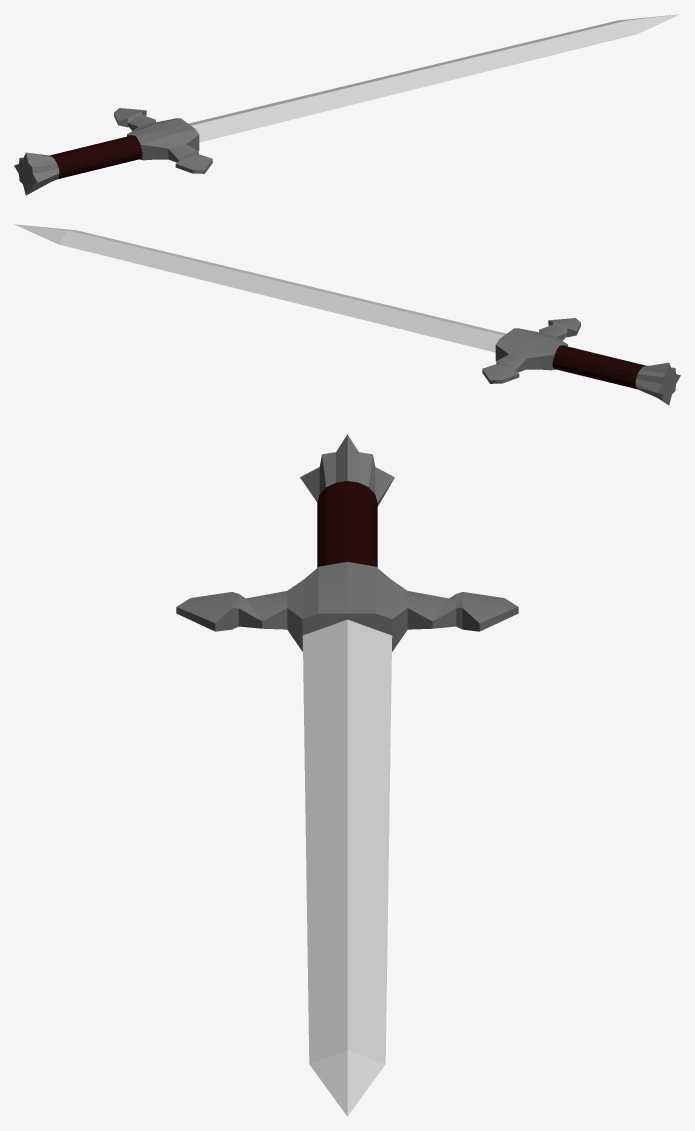
File: SM_Longsword.fbx
3 renders of one model, top to bottom at view 1: azimuth 30°, elevation 25°; view 2: azimuth 150°, elevation 25°; view 3: azimuth 270°, elevation 25°, orthographic. The views are drawn at different scales.
Parts seen in each view (by area): view 1: Sword; view 2: Sword; view 3: Sword.
Boxes of the visible parts, left/top/right/bottom form: Sword: left=14, top=14, right=680, bottom=195; Sword: left=14, top=224, right=680, bottom=405; Sword: left=176, top=434, right=518, bottom=1116.
Size of the model in its own units: 106 by 6.65 by 23.91.
